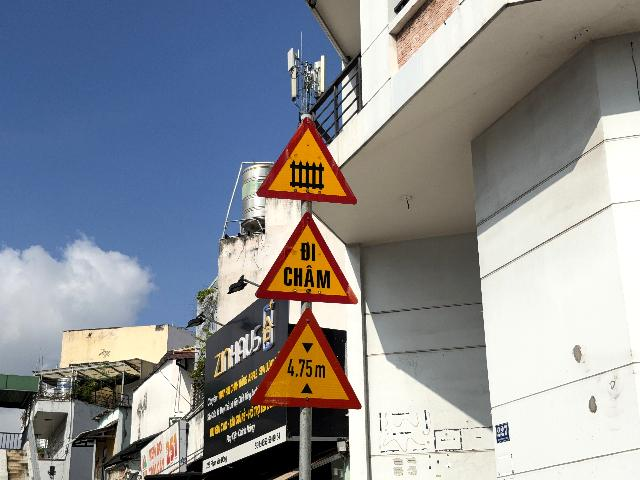chieu-cao-tinh-khong-thuc-te: (249, 307, 362, 410)
di-cham: (254, 211, 359, 304)
noi-giao-nhau-voi-duong-sat-co-rao-chan: (256, 117, 359, 205)
